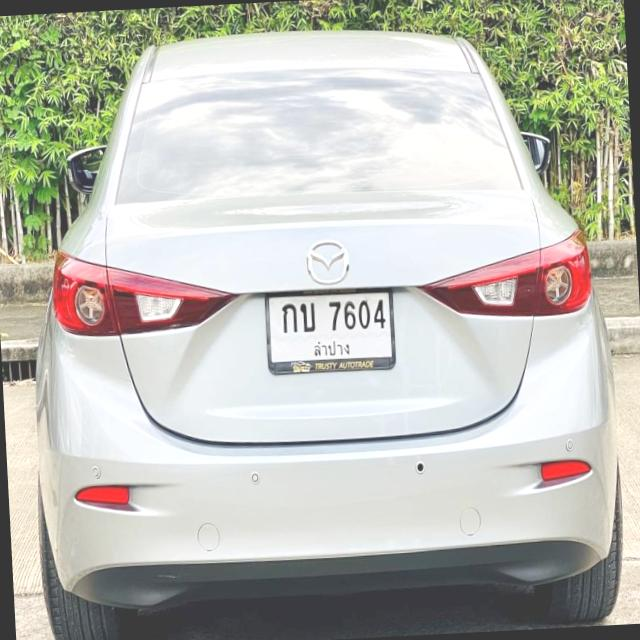license_plate: (264, 283, 397, 378)
